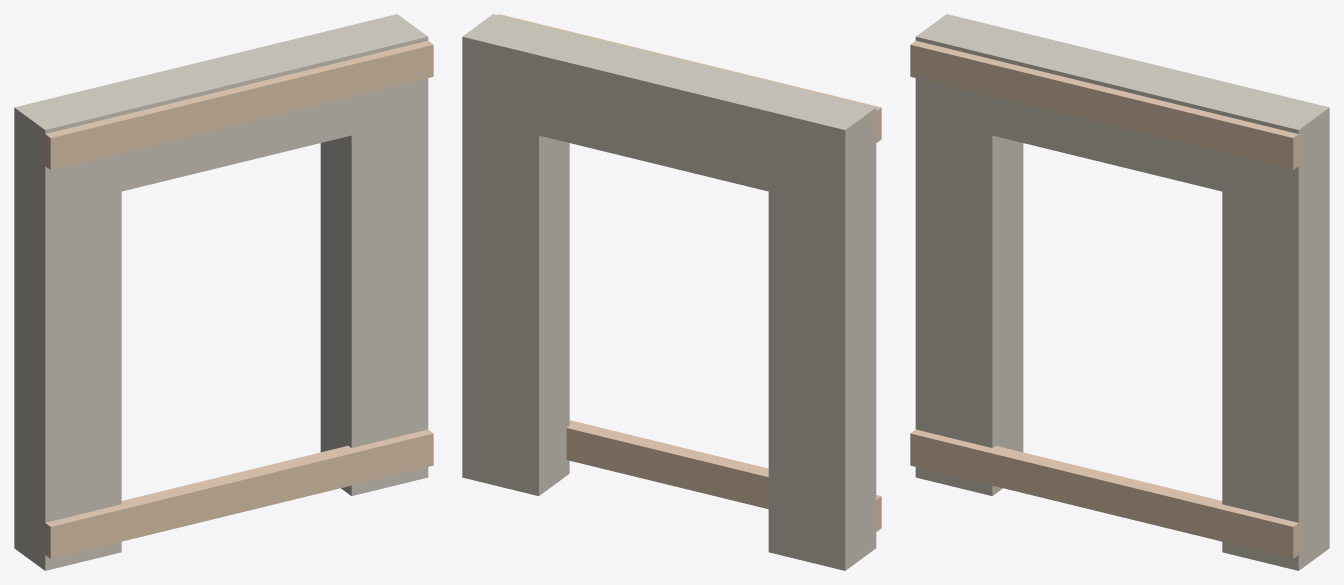
Rendered from wall-wood-door.glb.
3 renders of one model, left to right at view 1: azimuth 30°, elevation 25°; view 2: azimuth 150°, elevation 25°; view 3: azimuth 330°, elevation 25°, orthographic.
Visible parts, largest first — view 1: left_jamb, right_jamb, lintel, trim, top_trim; view 2: left_jamb, right_jamb, lintel, trim, top_trim; view 3: right_jamb, left_jamb, lintel, trim, top_trim.
Part boxes in pixels (bbox=[...]): left_jamb: bbox=[14, 89, 121, 570]; right_jamb: bbox=[320, 14, 428, 495]; lintel: bbox=[91, 32, 351, 191]; trim: bbox=[45, 429, 433, 558]; top_trim: bbox=[42, 41, 433, 169]; left_jamb: bbox=[768, 89, 876, 570]; right_jamb: bbox=[462, 14, 569, 495]; lintel: bbox=[539, 33, 799, 191]; trim: bbox=[566, 420, 881, 534]; top_trim: bbox=[498, 14, 881, 145]; right_jamb: bbox=[1222, 89, 1329, 570]; left_jamb: bbox=[915, 14, 1023, 495]; lintel: bbox=[992, 32, 1252, 191]; trim: bbox=[910, 429, 1301, 558]; top_trim: bbox=[910, 41, 1301, 169].
Bounding box in the file's own units: 1 × 1.1 × 0.165.
